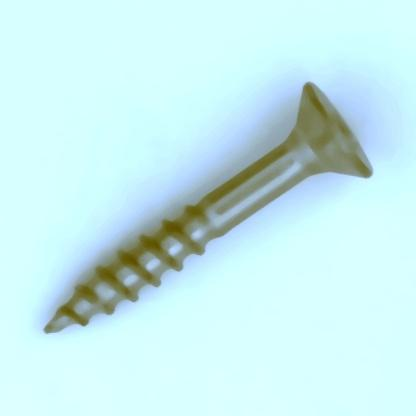metal: (42, 80, 373, 334)
